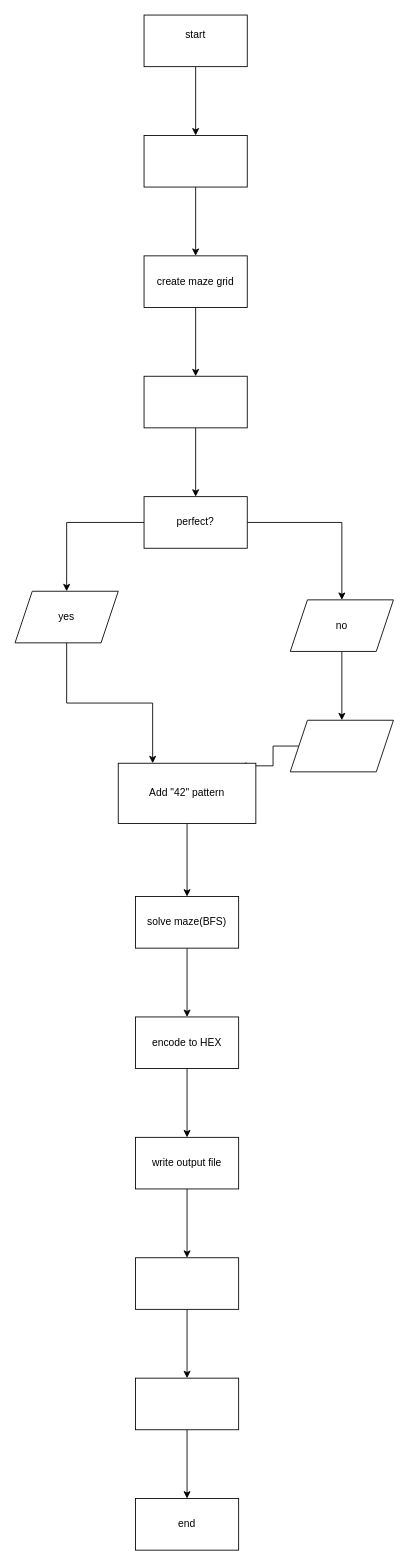
Some shapes in this 409 by 1565 pixel diagram are drawn without their labels. Each missing label, with the box of its shape:
add loops: (289, 719, 393, 772)
display maze: (135, 1257, 239, 1309)
generate maze(DFS): (143, 375, 247, 428)
read config.txt: (143, 135, 247, 187)
user intraction: (135, 1377, 239, 1430)
